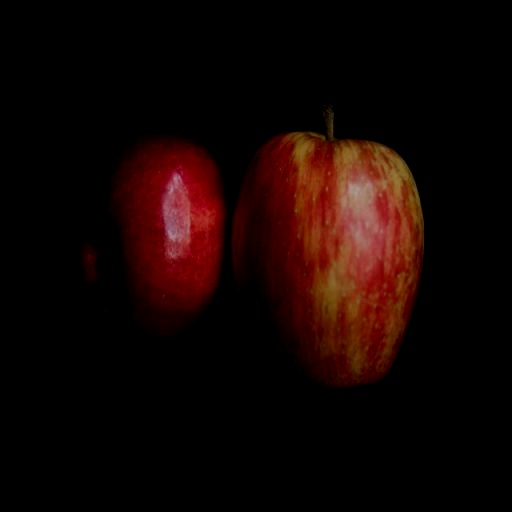fruit: (231, 106, 423, 391), (72, 116, 227, 351)
